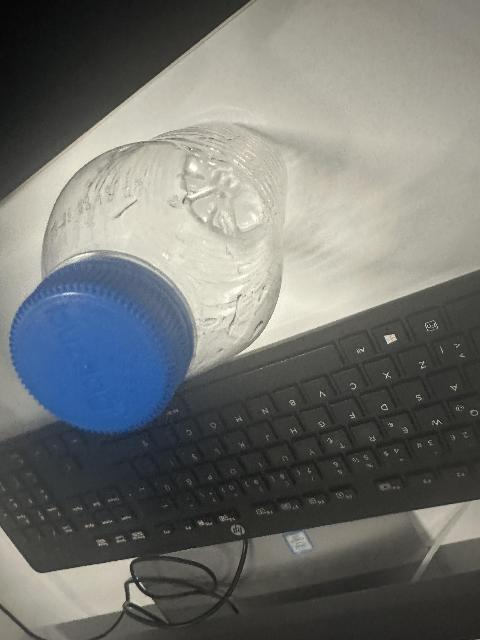Plastik: (13, 122, 305, 425), (16, 263, 187, 429)
